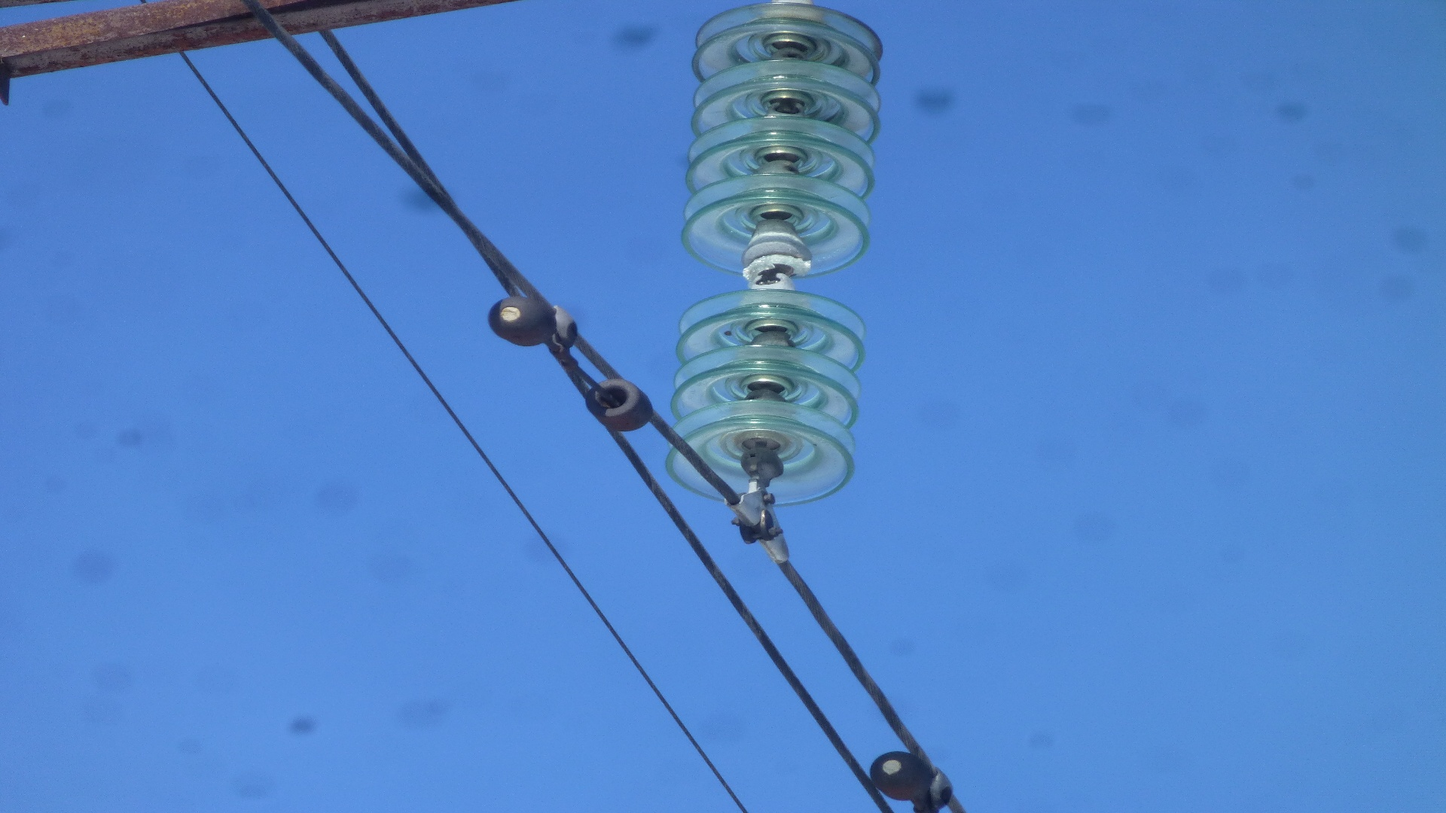insulator: (661, 1, 884, 517)
